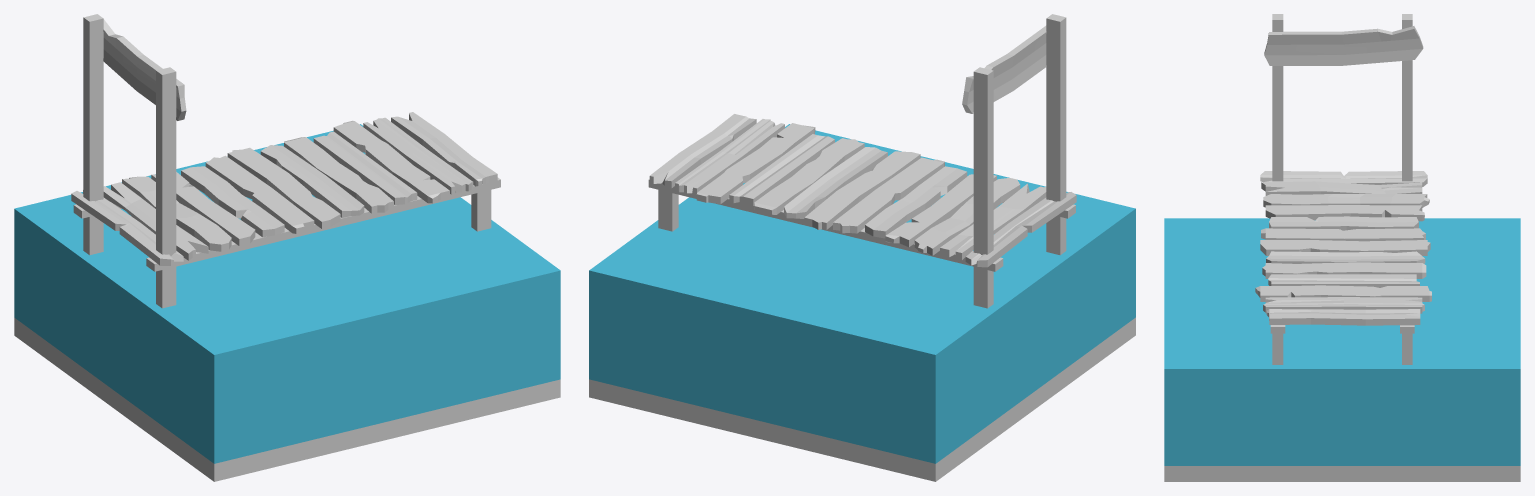
Rendered from Start.fbx.
The picture shows the model from 3 angles, left to right: view 1: azimuth 30°, elevation 25°; view 2: azimuth 150°, elevation 25°; view 3: azimuth 270°, elevation 25°; orthographic projection. The views are drawn at different scales.
Parts seen in each view (by area): view 1: Start; view 2: Start; view 3: Start.
Boxes of the visible parts, x1,y1,x2,y2 form: Start: [14, 14, 560, 481]; Start: [589, 14, 1135, 481]; Start: [1164, 14, 1520, 481].
Bounding box in the file's own units: 200 × 199 × 200.
